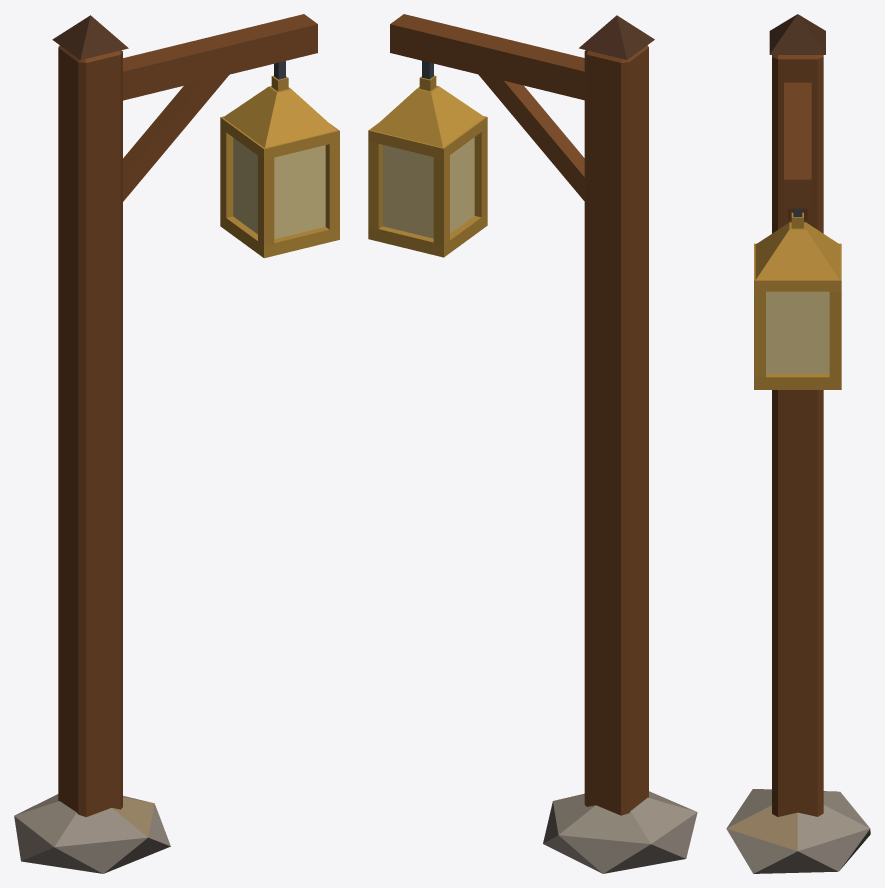
Rendered from lantern_post.glb.
The picture shows the model from 3 angles, left to right: view 1: azimuth 30°, elevation 25°; view 2: azimuth 150°, elevation 25°; view 3: azimuth 270°, elevation 25°; orthographic projection.
Visible parts, largest first — view 1: lantern_post; view 2: lantern_post; view 3: lantern_post.
Boxes of the visible parts, x1,y1,x2,y2 form: lantern_post: [14, 14, 339, 873]; lantern_post: [368, 14, 697, 873]; lantern_post: [726, 14, 870, 873].
Size of the model in its own units: 0.862 by 2.3 by 0.3619.
